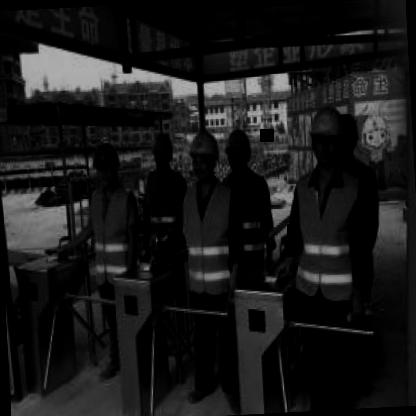helmet: (307, 104, 346, 166), (188, 130, 220, 180), (222, 127, 253, 173), (92, 142, 120, 188), (148, 129, 174, 169)
